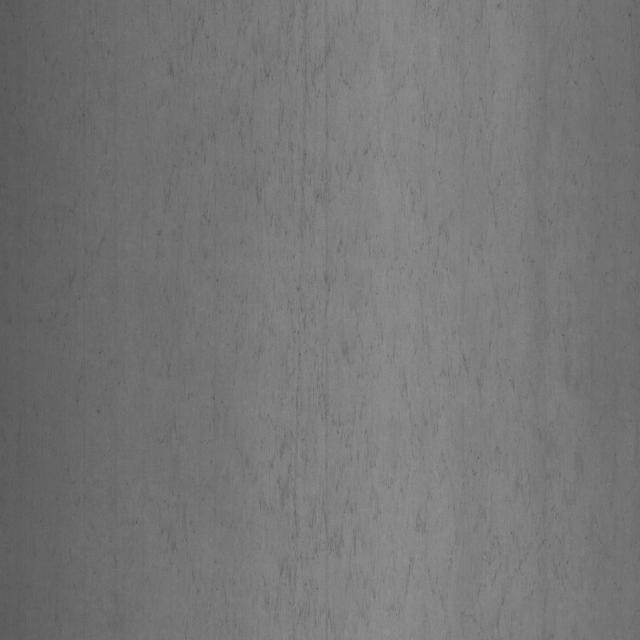inclusion: (400, 22, 622, 591), (170, 21, 384, 603)
